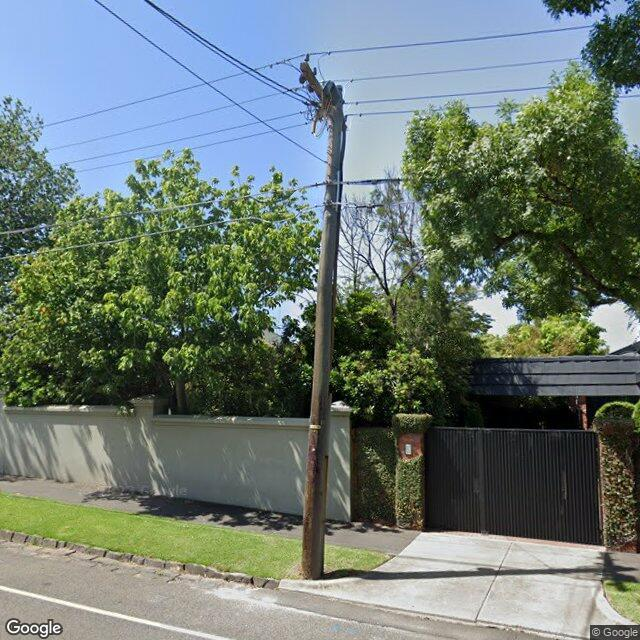crossarm: (299, 53, 364, 117)
timber-pole: (299, 85, 346, 578)
